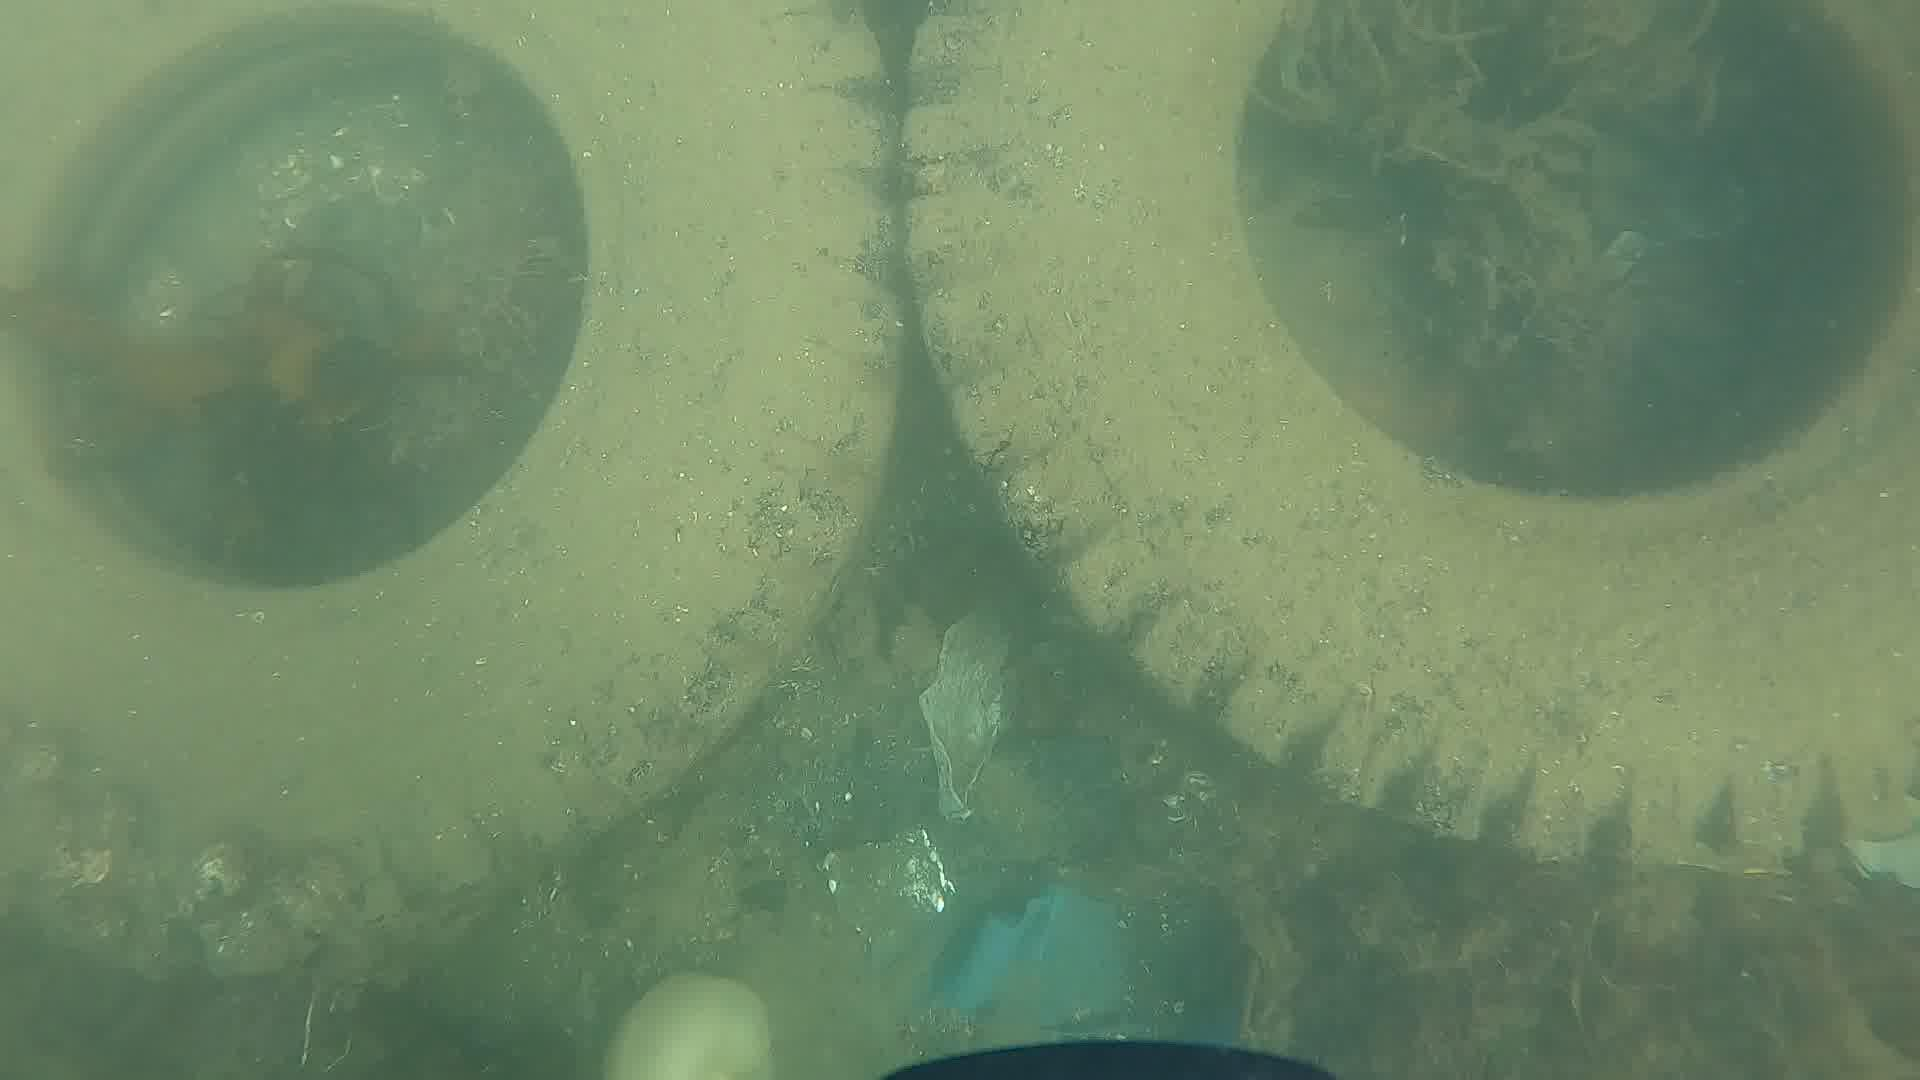tire: (902, 0, 1920, 860), (0, 0, 899, 902)
